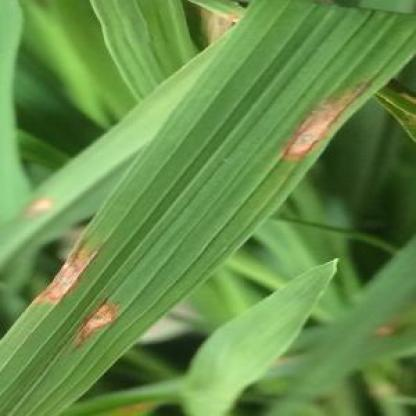Rice blast: (277, 76, 384, 178), (32, 226, 111, 312), (68, 296, 127, 352)
